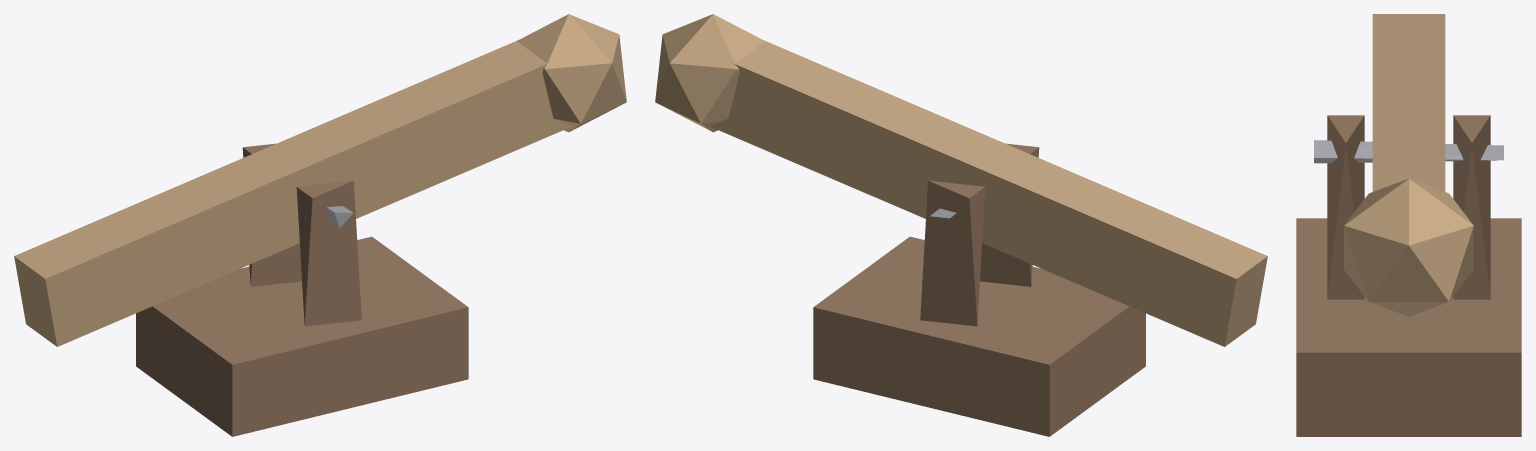
Rendered from 70-Interacciones_palanca_madera.glb.
The picture shows the model from 3 angles, left to right: view 1: azimuth 30°, elevation 25°; view 2: azimuth 150°, elevation 25°; view 3: azimuth 270°, elevation 25°; orthographic projection. The views are drawn at different scales.
Visible parts, largest first — view 1: SM_Palanca_M_Madera_Pal_Osc_Madera_Pal_Cla_Hierro_Perno; view 2: SM_Palanca_M_Madera_Pal_Osc_Madera_Pal_Cla_Hierro_Perno; view 3: SM_Palanca_M_Madera_Pal_Osc_Madera_Pal_Cla_Hierro_Perno.
Boxes of the visible parts, <box> form: SM_Palanca_M_Madera_Pal_Osc_Madera_Pal_Cla_Hierro_Perno: <box>14,14,626,436</box>; SM_Palanca_M_Madera_Pal_Osc_Madera_Pal_Cla_Hierro_Perno: <box>655,14,1267,436</box>; SM_Palanca_M_Madera_Pal_Osc_Madera_Pal_Cla_Hierro_Perno: <box>1296,14,1521,436</box>.
Size of the model in its own units: 1.2 by 0.5705 by 0.34.
